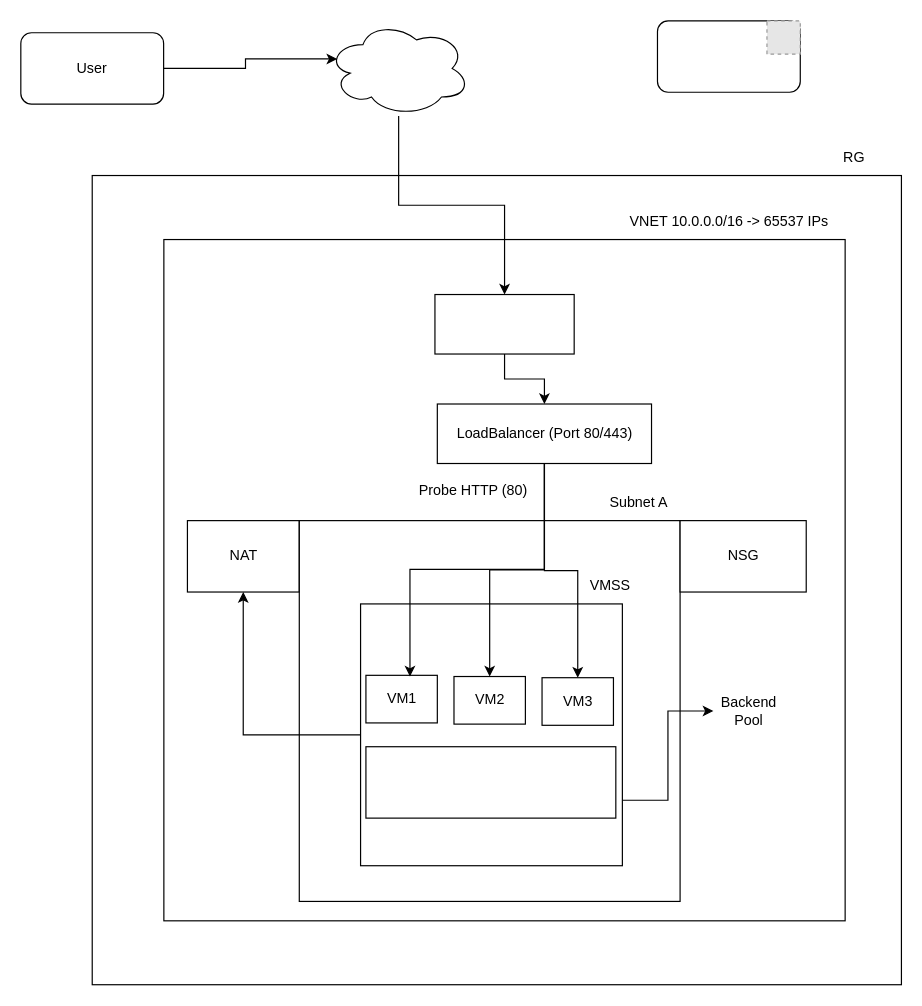
The diagram is 922 pixels wide and 1006 high, and some of its shapes have lost their labels. Grey dashed boxes stand in for pictures. The box of each missing label's shape, as (x1, y1, x2, y2) in pixels:
Armand Messan: (656, 20, 800, 92)
Internet: (326, 20, 470, 116)
Public IP: (434, 293, 574, 354)
Virtual Machines: (365, 746, 616, 818)
